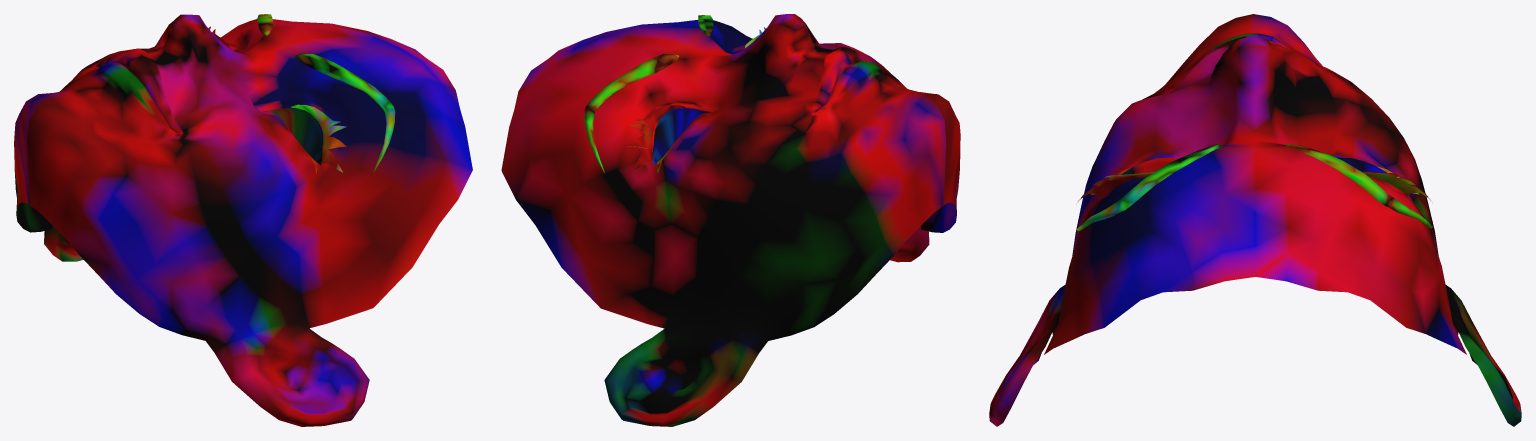
File: LolActor1_Face.fbx
3 renders of one model, left to right at view 1: azimuth 30°, elevation 25°; view 2: azimuth 150°, elevation 25°; view 3: azimuth 270°, elevation 25°, orthographic. The views are drawn at different scales.
Parts seen in each view (by area): view 1: LolActor1_Face; view 2: LolActor1_Face; view 3: LolActor1_Face.
Part boxes in pixels (box(x1,y1,x2,y2)): LolActor1_Face: box(14, 14, 472, 426); LolActor1_Face: box(501, 14, 960, 426); LolActor1_Face: box(989, 14, 1521, 426).
Size of the model in its own units: 0.1988 by 0.157 by 0.2066.
